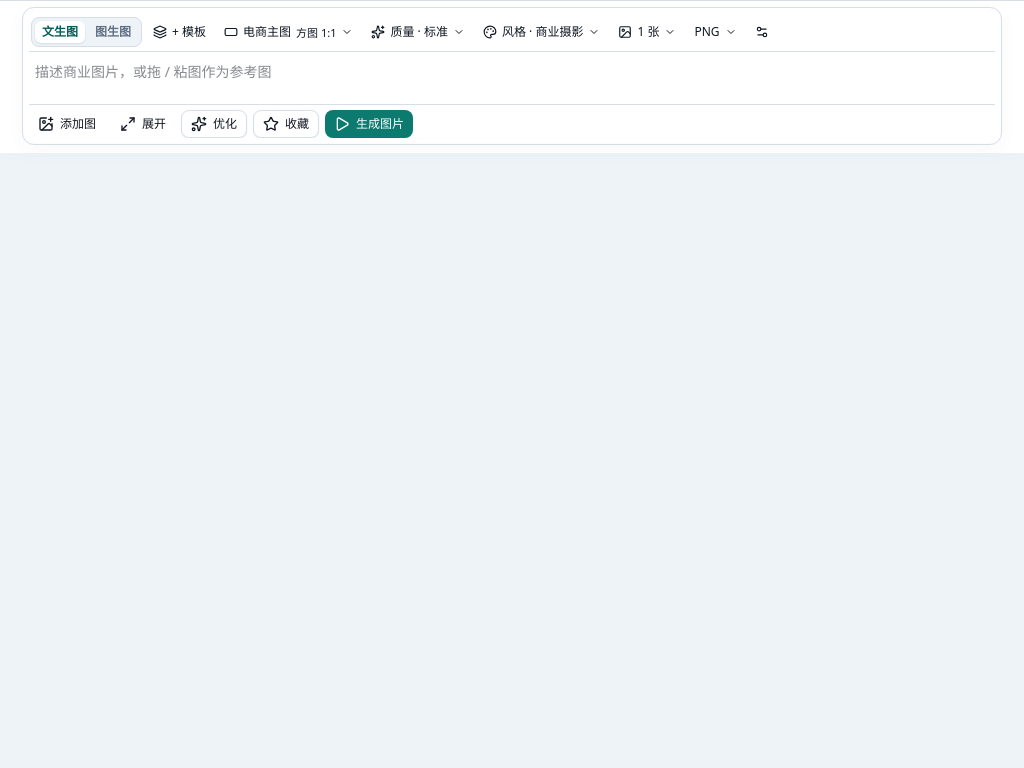
Test: Composer prompt input upgrade › Modal 编辑后取消不写回 prompt
# 先在 Composer textarea 输入初始值
Type "初始值" into the text box named "Prompt" at (512, 76), box [29, 55, 995, 97]
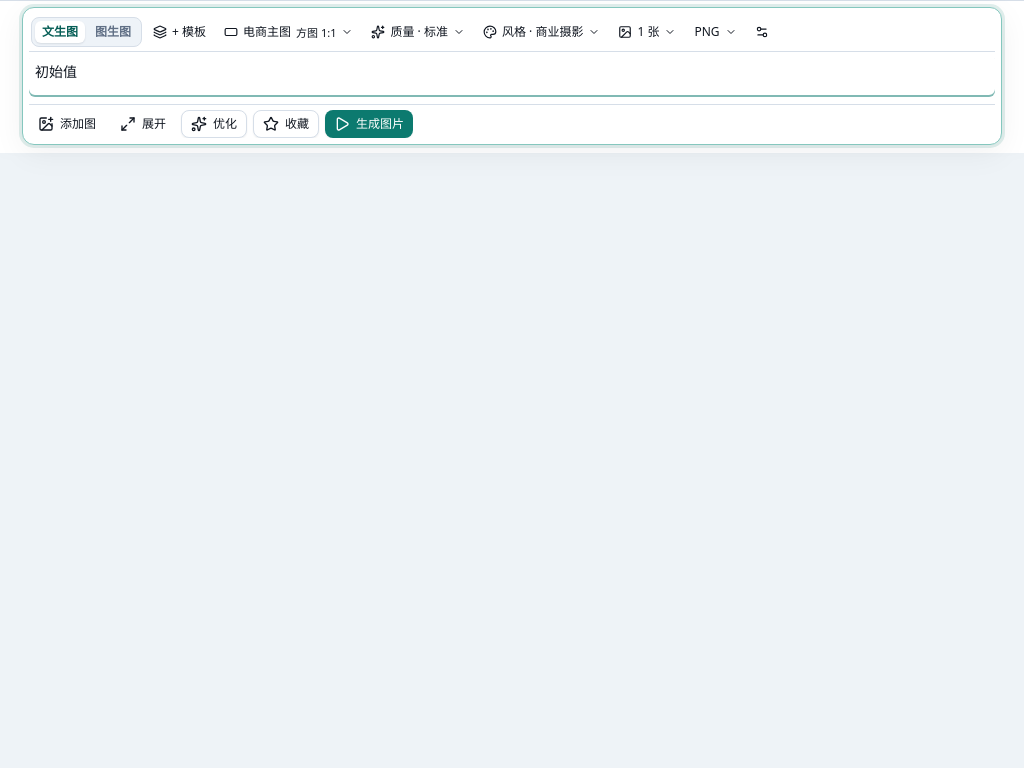
Click the button with test id "composer-expand-trigger" at (143, 124), box [111, 110, 175, 138]
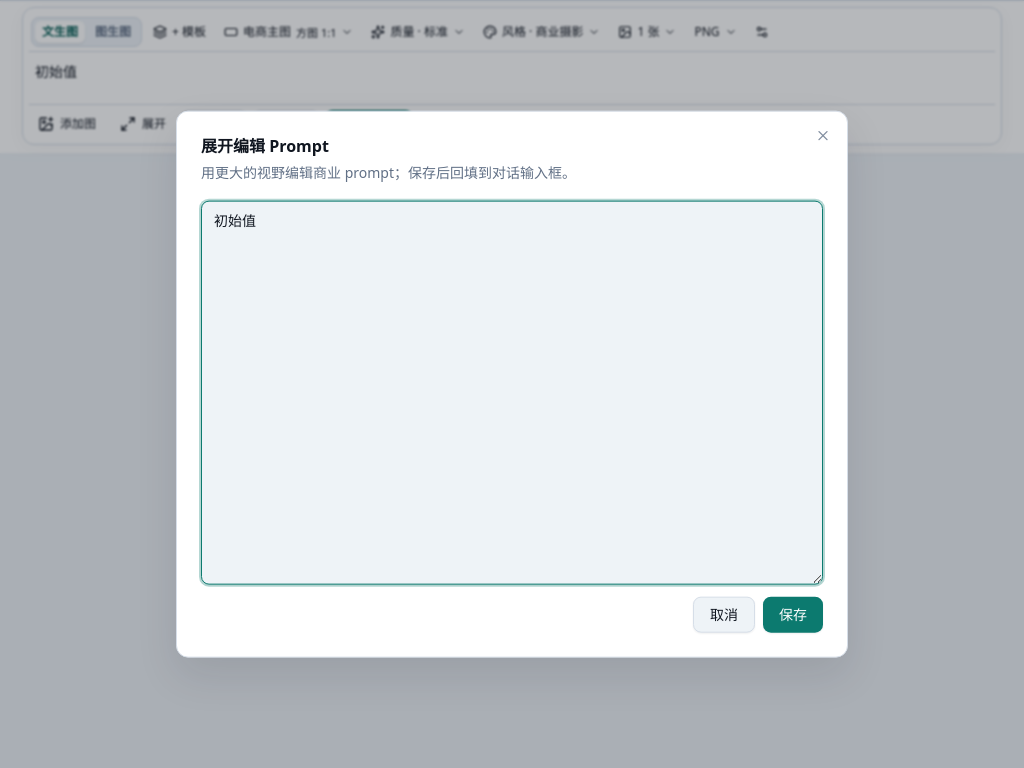
Replace the text in the text box with test id "prompt-expanded-textarea" with "改了但不保存" at (512, 392), box [201, 200, 823, 584]
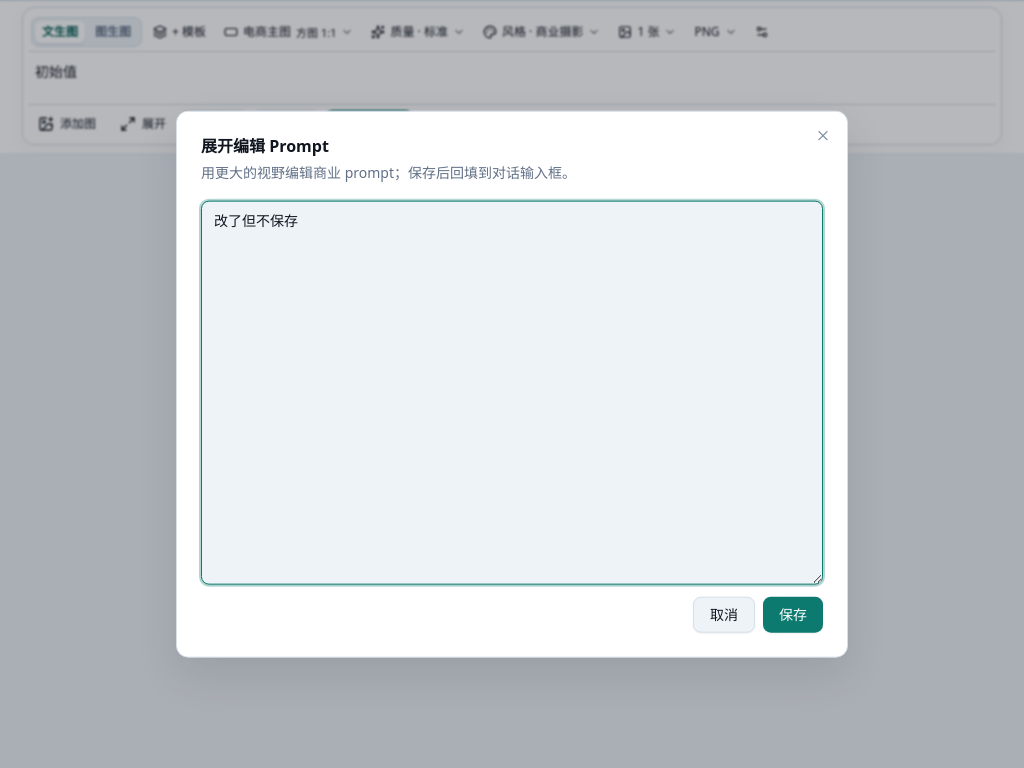
Click the button "取消" at (724, 614), box [693, 596, 755, 632]
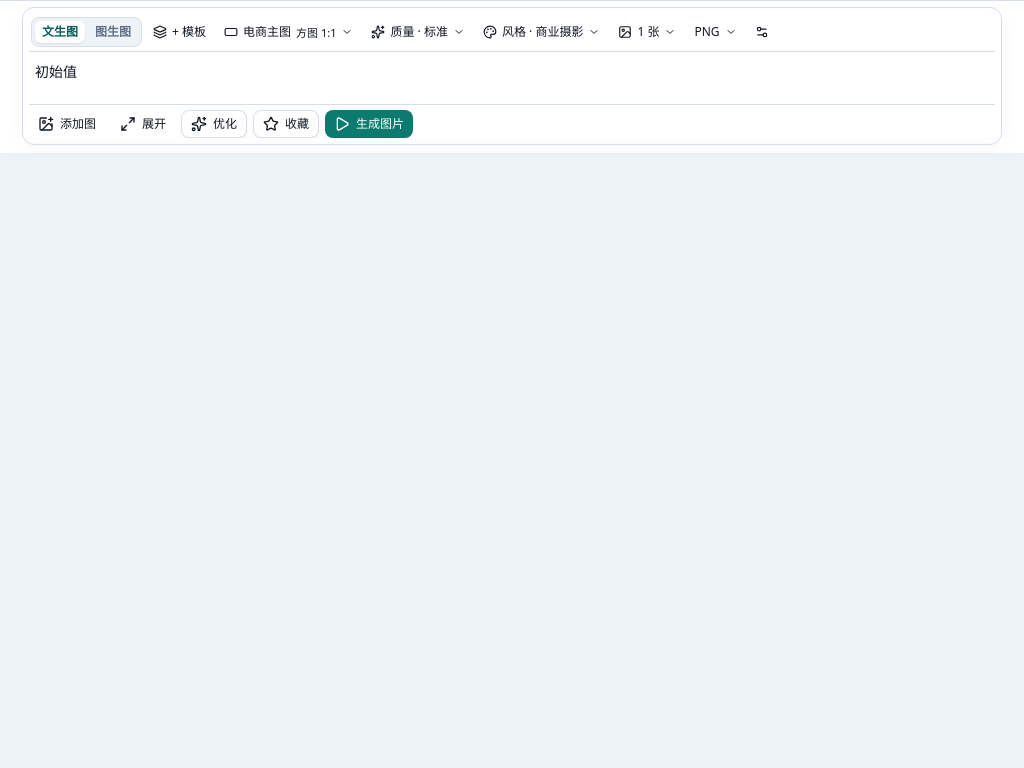
Now the dialog with test id "prompt-expanded-dialog" is gone
